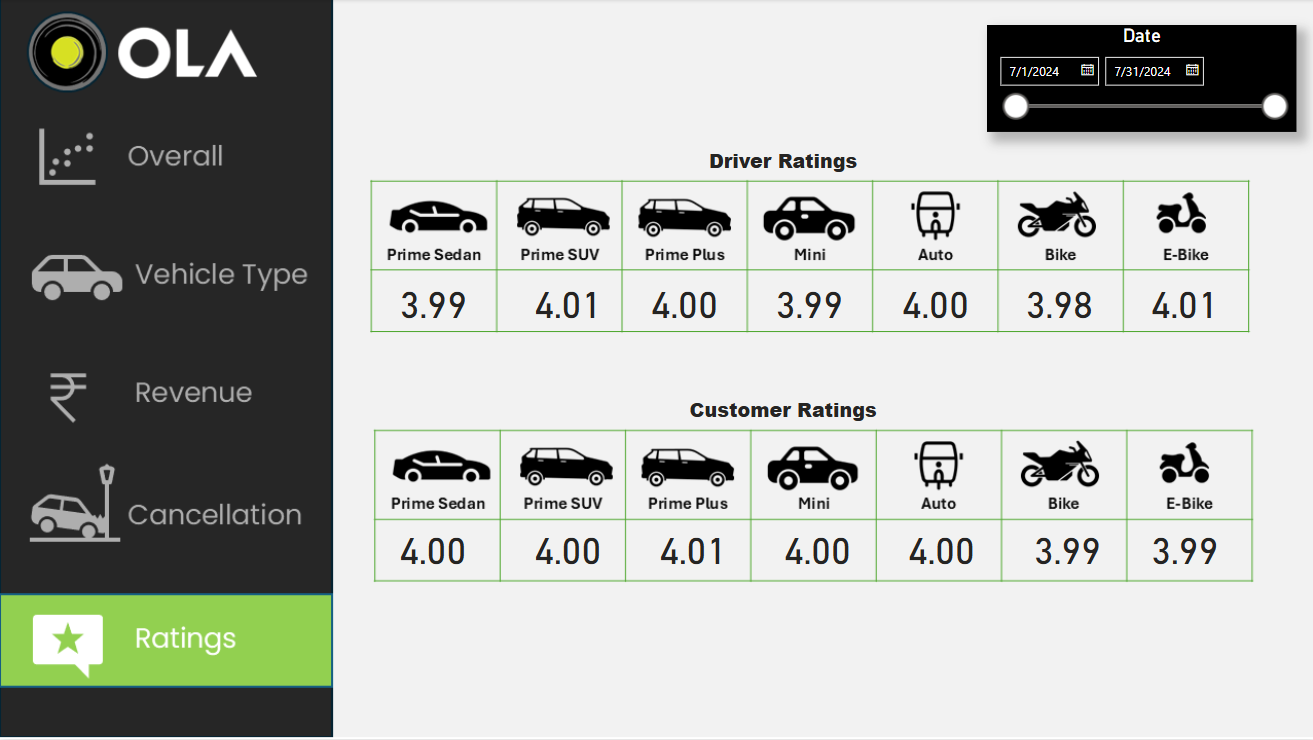

The dashboard page shown, as its layout file describes it:
{"tool":"powerbi","page":{"name":"Ratings","canvas":[1280,720],"ordinal":4},"visuals":[{"type":"actionButton","box":[0,210.7,324,104.5],"z":0},{"type":"actionButton","box":[0,327.5,324,104.5],"z":1000},{"type":"actionButton","box":[0,441.7,324,104.5],"z":2000},{"type":"actionButton","box":[0,106.2,324,104.5],"z":3000},{"type":"card","fields":{"Values":["Avg(Bookings.Driver_Ratings)"]},"box":[365,267.5,113.5,54.5],"z":3001},{"type":"card","fields":{"Values":["Avg(Bookings.Customer_Rating)"]},"box":[495.7,507.1,112.9,54.3],"z":3002},{"type":"card","fields":{"Values":["Avg(Bookings.Driver_Ratings)"]},"box":[608.5,267.5,113.5,54.5],"z":3003},{"type":"card","fields":{"Values":["Avg(Bookings.Driver_Ratings)"]},"box":[730.5,267.5,113.5,54.5],"z":3004},{"type":"card","fields":{"Values":["Avg(Bookings.Driver_Ratings)"]},"box":[853,267.5,113.5,54.5],"z":3005},{"type":"card","fields":{"Values":["Avg(Bookings.Driver_Ratings)"]},"box":[973.5,267.5,113.5,54.5],"z":3006},{"type":"card","fields":{"Values":["Avg(Bookings.Driver_Ratings)"]},"box":[1095,267.5,113.5,54.5],"z":3007},{"type":"textbox","box":[651.4,138.6,220,40],"z":3008},{"type":"textbox","box":[651.4,380,220,40],"z":3009},{"type":"card","fields":{"Values":["Avg(Bookings.Customer_Rating)"]},"box":[364.3,507.1,112.9,54.3],"z":3010},{"type":"card","fields":{"Values":["Avg(Bookings.Driver_Ratings)"]},"box":[495.7,267.1,112.9,54.3],"z":3011},{"type":"card","fields":{"Values":["Avg(Bookings.Customer_Rating)"]},"box":[617.1,507.1,112.9,54.3],"z":3012},{"type":"card","fields":{"Values":["Avg(Bookings.Customer_Rating)"]},"box":[738.6,507.1,114.3,54.3],"z":3013},{"type":"card","fields":{"Values":["Avg(Bookings.Customer_Rating)"]},"box":[858.6,507.1,114.3,54.3],"z":3014},{"type":"card","fields":{"Values":["Avg(Bookings.Customer_Rating)"]},"box":[981.4,507.1,114.3,54.3],"z":3015},{"type":"card","fields":{"Values":["Avg(Bookings.Customer_Rating)"]},"box":[1095.7,507.1,112.9,54.3],"z":3016},{"type":"slicer","title":"Date","fields":{"Values":["Bookings.Date"]},"box":[960,25.7,301.4,104.3],"z":3017}]}

Visuals, with their boxes on the page's 1280x720 design canvas (x1, y1, x2, y2). These are canvas units, not pixel positions in the 1313x740 screenshot, which may show the page scaled, cropped or inside an application window:
actionButton: left=0, top=211, right=324, bottom=315
actionButton: left=0, top=328, right=324, bottom=432
actionButton: left=0, top=442, right=324, bottom=546
actionButton: left=0, top=106, right=324, bottom=211
card - Avg(Bookings.Driver_Ratings): left=365, top=268, right=478, bottom=322
card - Avg(Bookings.Customer_Rating): left=496, top=507, right=609, bottom=561
card - Avg(Bookings.Driver_Ratings): left=608, top=268, right=722, bottom=322
card - Avg(Bookings.Driver_Ratings): left=730, top=268, right=844, bottom=322
card - Avg(Bookings.Driver_Ratings): left=853, top=268, right=966, bottom=322
card - Avg(Bookings.Driver_Ratings): left=974, top=268, right=1087, bottom=322
card - Avg(Bookings.Driver_Ratings): left=1095, top=268, right=1208, bottom=322
textbox: left=651, top=139, right=871, bottom=179
textbox: left=651, top=380, right=871, bottom=420
card - Avg(Bookings.Customer_Rating): left=364, top=507, right=477, bottom=561
card - Avg(Bookings.Driver_Ratings): left=496, top=267, right=609, bottom=321
card - Avg(Bookings.Customer_Rating): left=617, top=507, right=730, bottom=561
card - Avg(Bookings.Customer_Rating): left=739, top=507, right=853, bottom=561
card - Avg(Bookings.Customer_Rating): left=859, top=507, right=973, bottom=561
card - Avg(Bookings.Customer_Rating): left=981, top=507, right=1096, bottom=561
card - Avg(Bookings.Customer_Rating): left=1096, top=507, right=1209, bottom=561
"Date" slicer: left=960, top=26, right=1261, bottom=130
